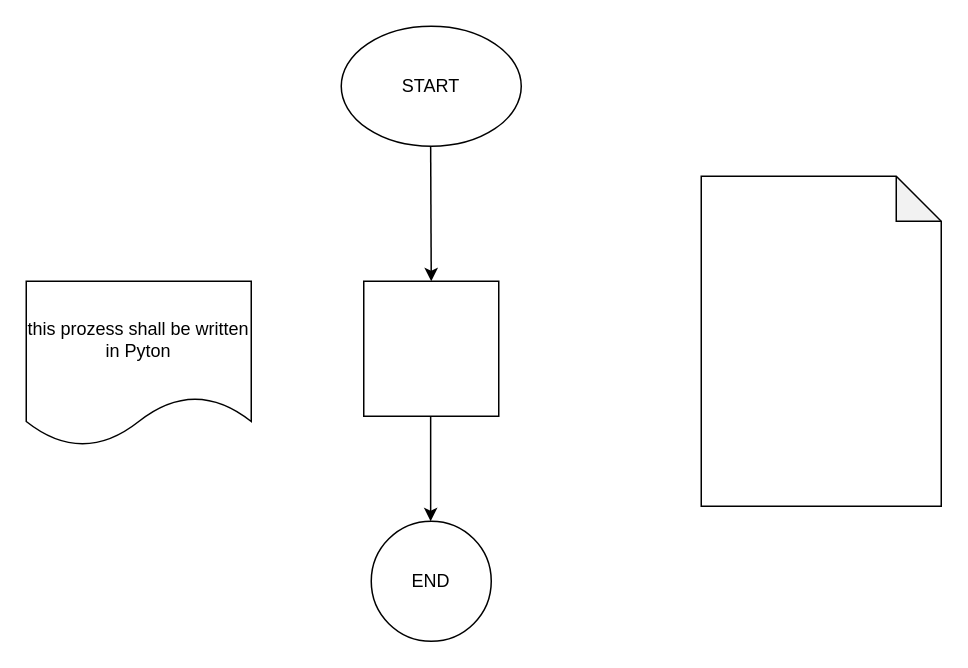
This 968x668 diagram has some shape labels left out. Here are the shapes that lost their labels. From the top down, the box of each, then its label:
(362, 280, 499, 416): print: Hello!
(700, 175, 941, 506): Pseudo Code START PRINT "Hello!" END
